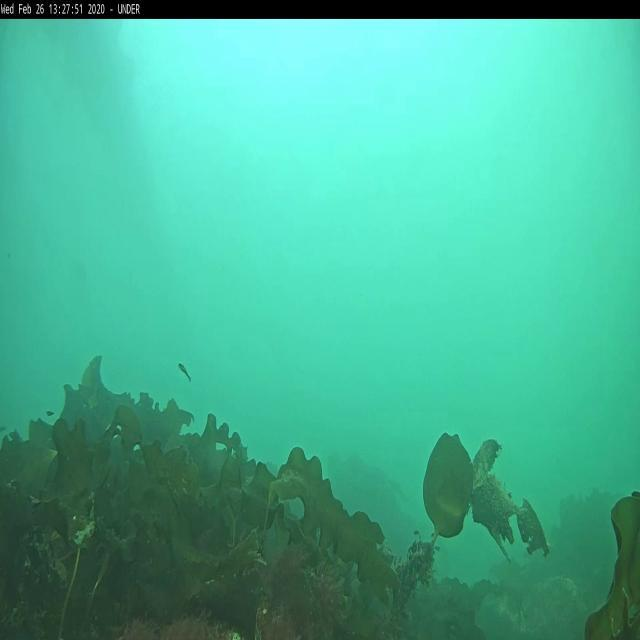fish: (178, 360, 192, 382)
